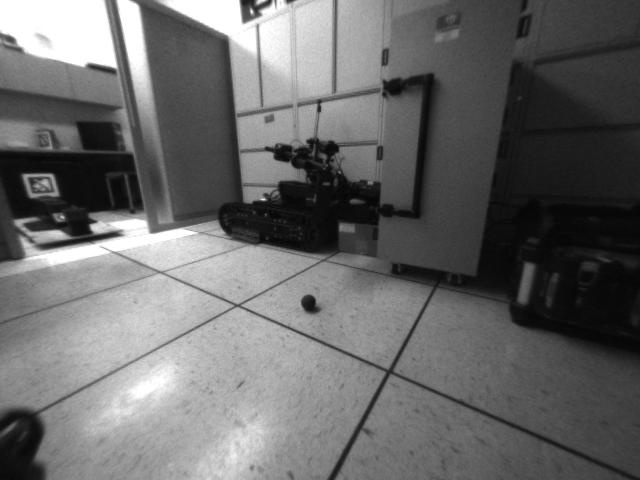dogtoy: (297, 289, 326, 315)
